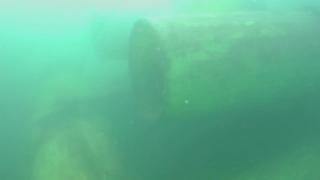pipe: (126, 14, 320, 123), (23, 66, 124, 180), (189, 137, 320, 179), (88, 12, 134, 61), (190, 1, 272, 14)
